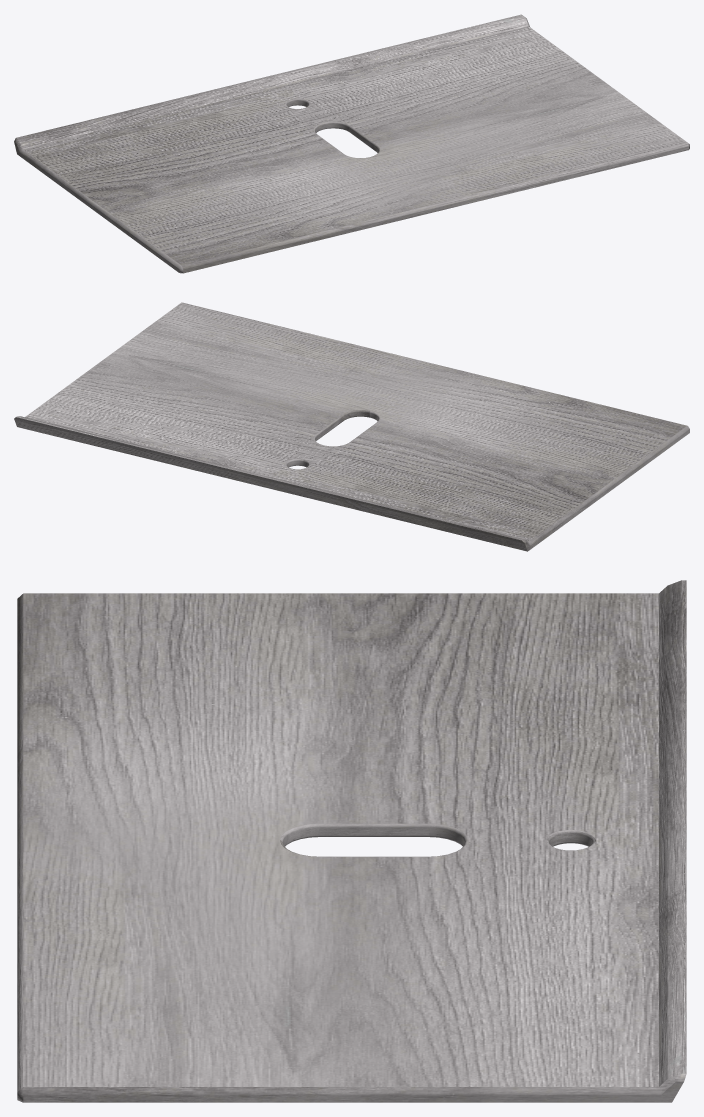
Rendered from countertop-800mm.glb.
3 views of the same model, one above another, from view 1: azimuth 30°, elevation 25°; view 2: azimuth 150°, elevation 25°; view 3: azimuth 270°, elevation 25° (orthographic). The views are drawn at different scales.
Visible parts, largest first — view 1: Countertop 800mm; view 2: Countertop 800mm; view 3: Countertop 800mm.
Boxes of the visible parts, x1=… form: Countertop 800mm: x1=14, y1=14, x2=689, y2=273; Countertop 800mm: x1=14, y1=302, x2=689, y2=551; Countertop 800mm: x1=17, y1=580, x2=686, y2=1102.
Size of the model in its own units: 0.809 by 0.02 by 0.459.
Materials: 1 (1 with a texture image).
